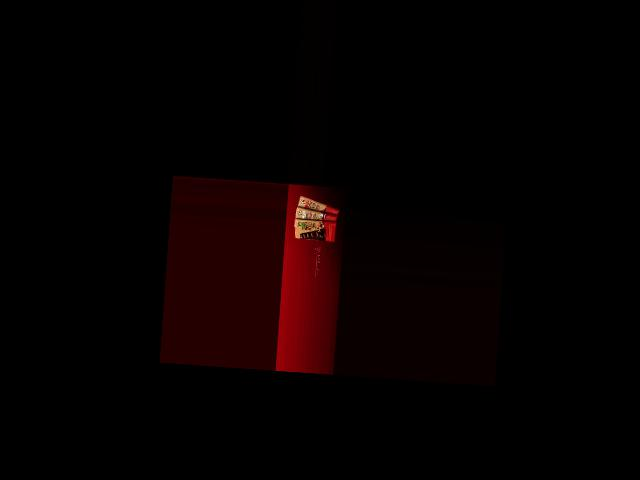chocolate: (294, 195, 342, 219)
